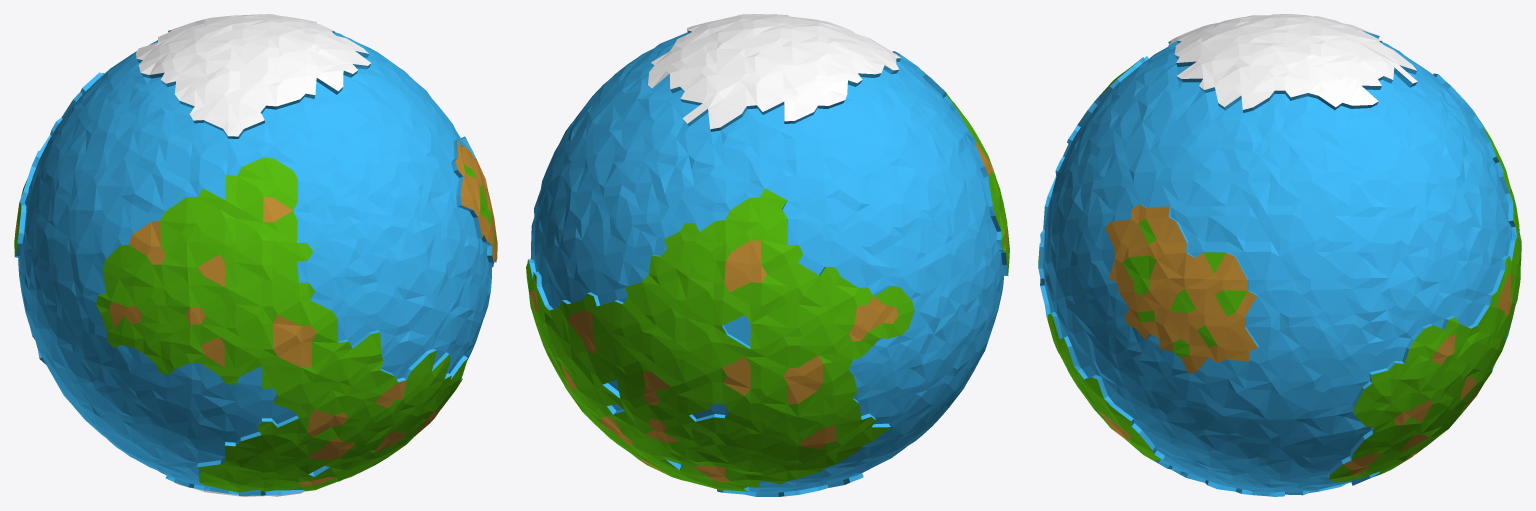
File: earth-1.fbx
The picture shows the model from 3 angles, left to right: view 1: azimuth 30°, elevation 25°; view 2: azimuth 150°, elevation 25°; view 3: azimuth 270°, elevation 25°; orthographic projection.
Visible parts, largest first — view 1: Sphere; view 2: Sphere; view 3: Sphere.
Part boxes in pixels (left/top/right/bottom): Sphere: left=14, top=14, right=497, bottom=496; Sphere: left=526, top=14, right=1009, bottom=496; Sphere: left=1038, top=14, right=1521, bottom=496.
Bounding box in the file's own units: 402 × 406 × 408.
